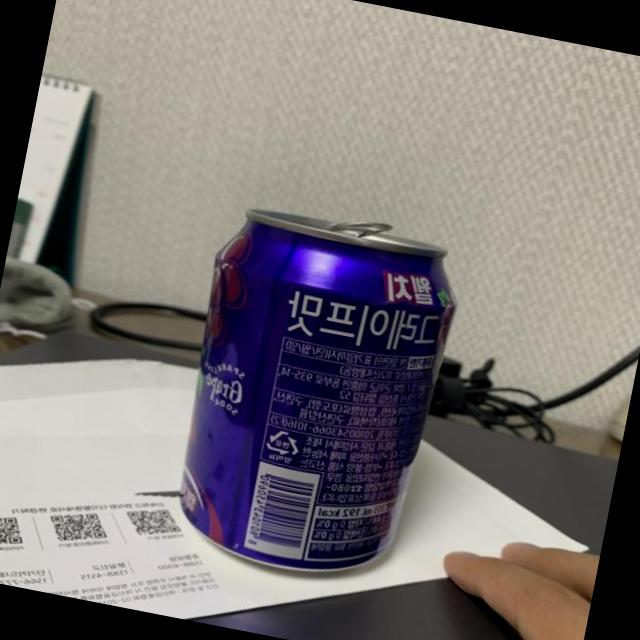can: (153, 186, 474, 599)
